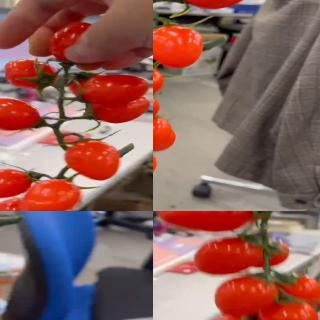tomato: (214, 273, 279, 317), (195, 236, 265, 276), (73, 73, 151, 107), (65, 139, 122, 180), (46, 22, 97, 67), (153, 24, 205, 66), (268, 271, 320, 313), (155, 211, 253, 233), (20, 180, 83, 211), (90, 94, 152, 124), (4, 59, 58, 91), (252, 238, 291, 273), (0, 98, 40, 132), (255, 300, 319, 320), (0, 167, 32, 198), (153, 115, 176, 151), (182, 0, 255, 10), (0, 197, 45, 211)
